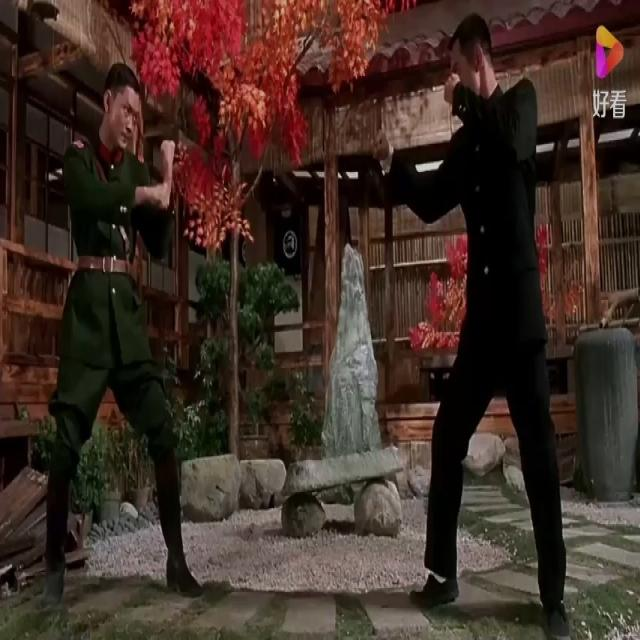fight: (42, 11, 572, 634)
